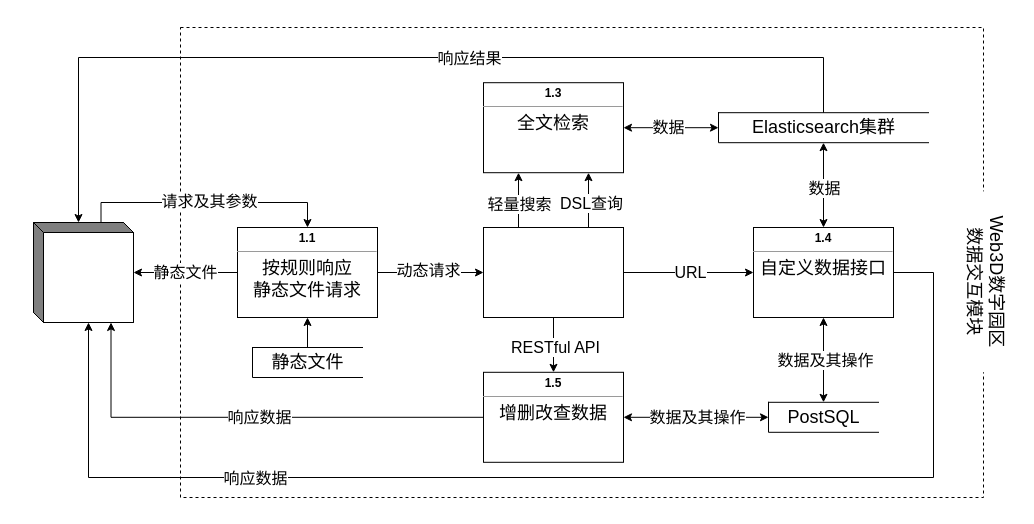
The diagram is 1034 pixels wide and 524 high, and some of its shapes have lost their labels. Each missing label, with the centre of its shape:
"1.3 分发动态请求" belongs at [553,272].
"用户" belongs at [83,272].
